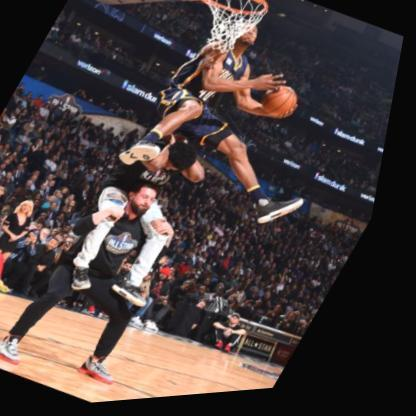basketball: (257, 84, 308, 129)
rim: (180, 0, 277, 66)
